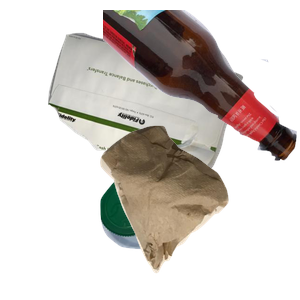glass: (103, 10, 300, 163)
paper: (45, 30, 281, 195)
plastic: (98, 176, 266, 300)
trash: (98, 123, 300, 300)
